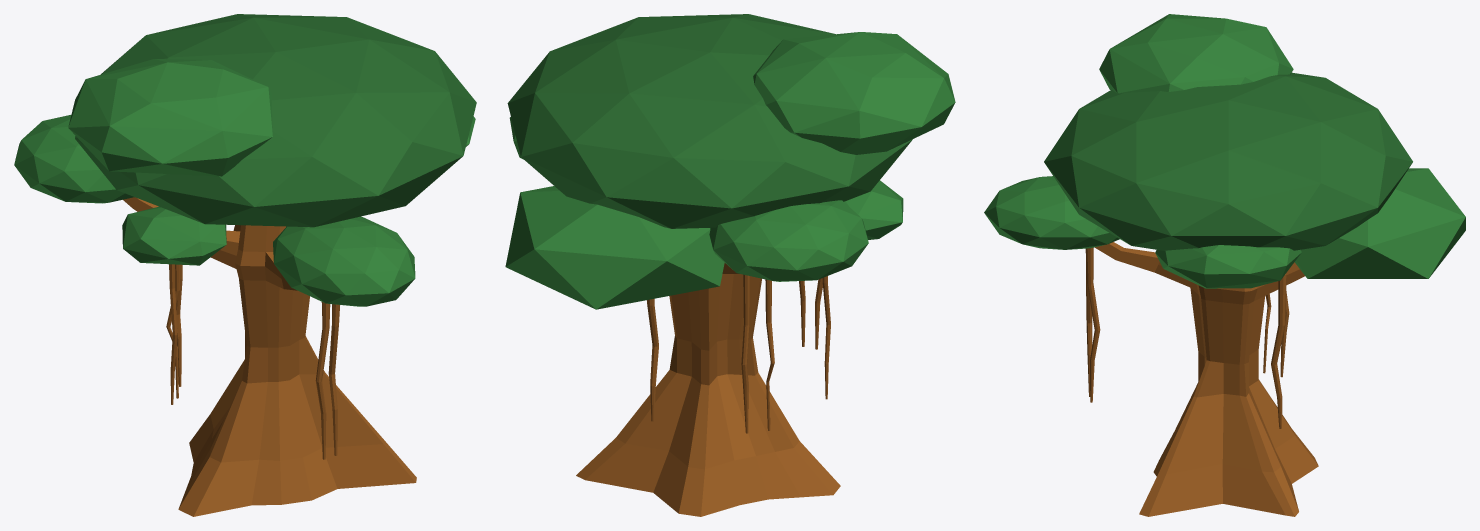
File: ENVI_LV2-3_Pohon_Raksasa.fbx
3 views of the same model, side by side, from view 1: azimuth 30°, elevation 25°; view 2: azimuth 150°, elevation 25°; view 3: azimuth 270°, elevation 25° (orthographic). The views are drawn at different scales.
Parts seen in each view (by area): view 1: Pohon Raksasa; view 2: Pohon Raksasa; view 3: Pohon Raksasa.
Part boxes in pixels (x1,y1,x2,y2): Pohon Raksasa: (14, 14, 476, 516); Pohon Raksasa: (505, 14, 955, 516); Pohon Raksasa: (984, 14, 1465, 516).
Size of the model in its own units: 1287 by 1369 by 1509.
